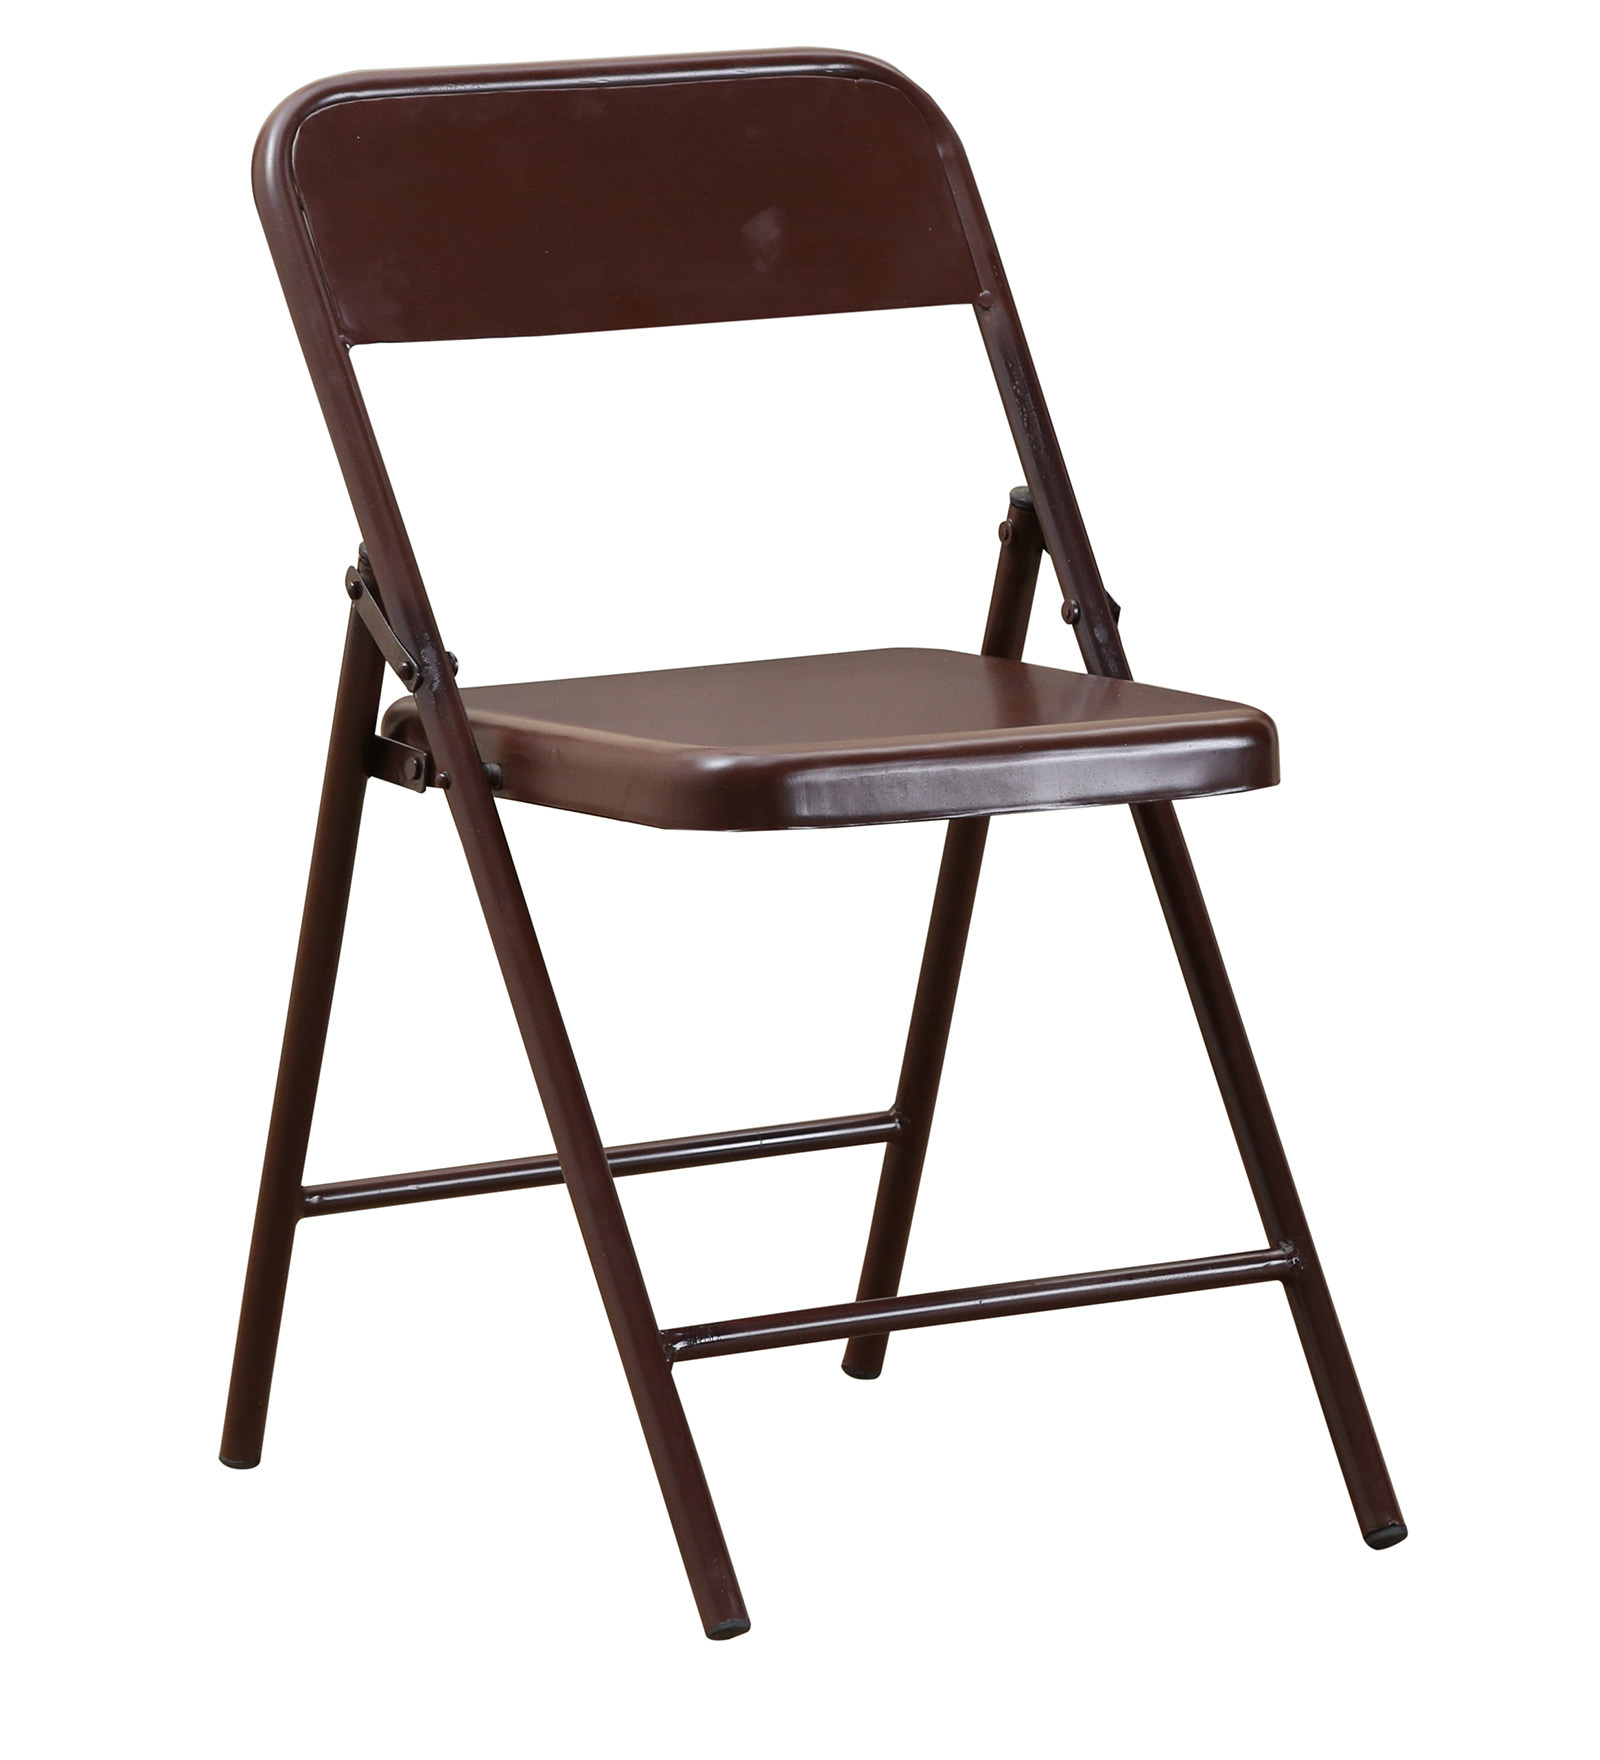Kell Folding Chair in Brown Color by Bohemiana: (172, 41, 1464, 1670)
